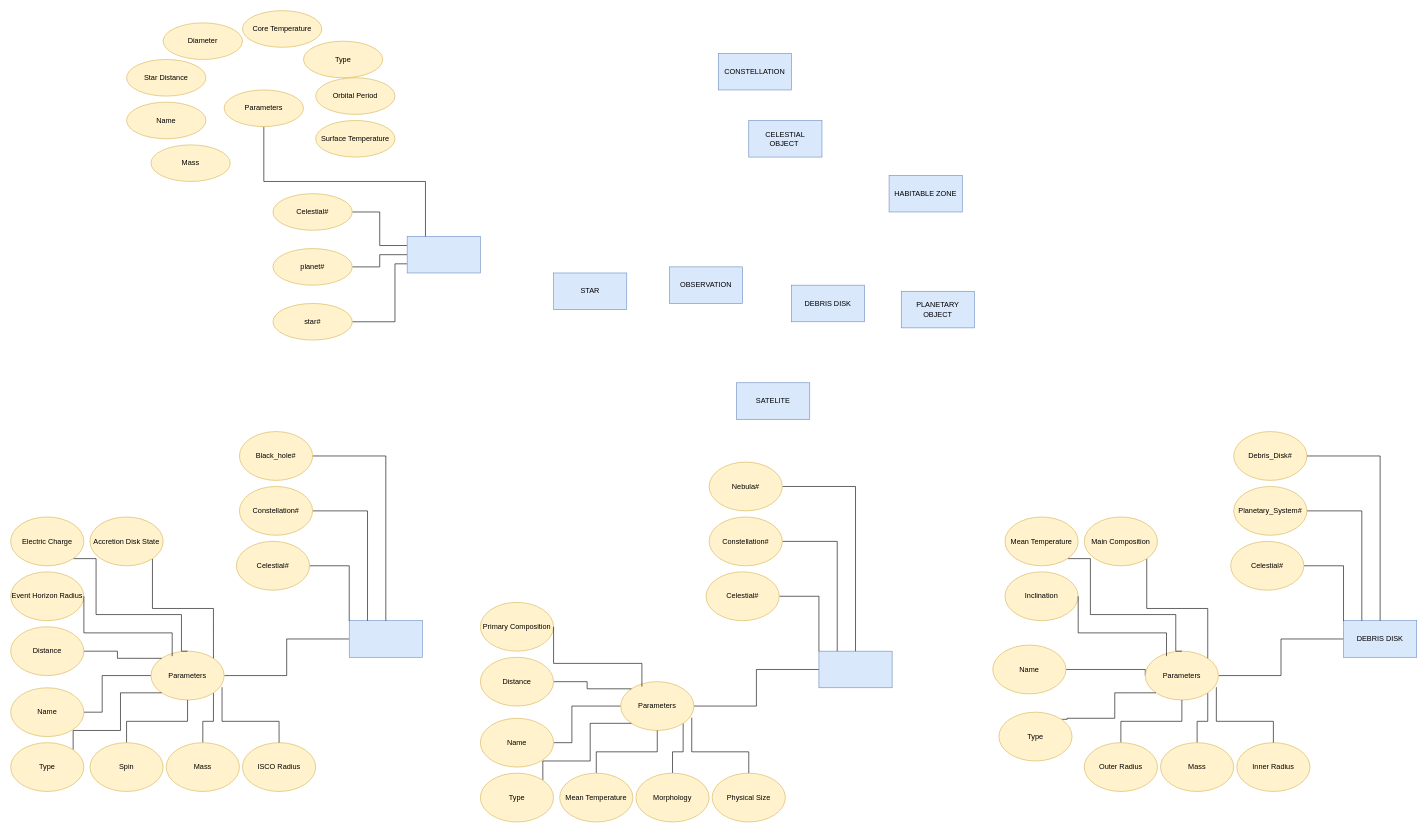
This 1427x833 diagram has some shape labels left out. The centre of each missing label's shape, as x and y in pixels:
"BLACK HOLE" goes at point (385, 638).
"NEBULA" goes at point (855, 669).
"PLANET" goes at point (443, 254).
